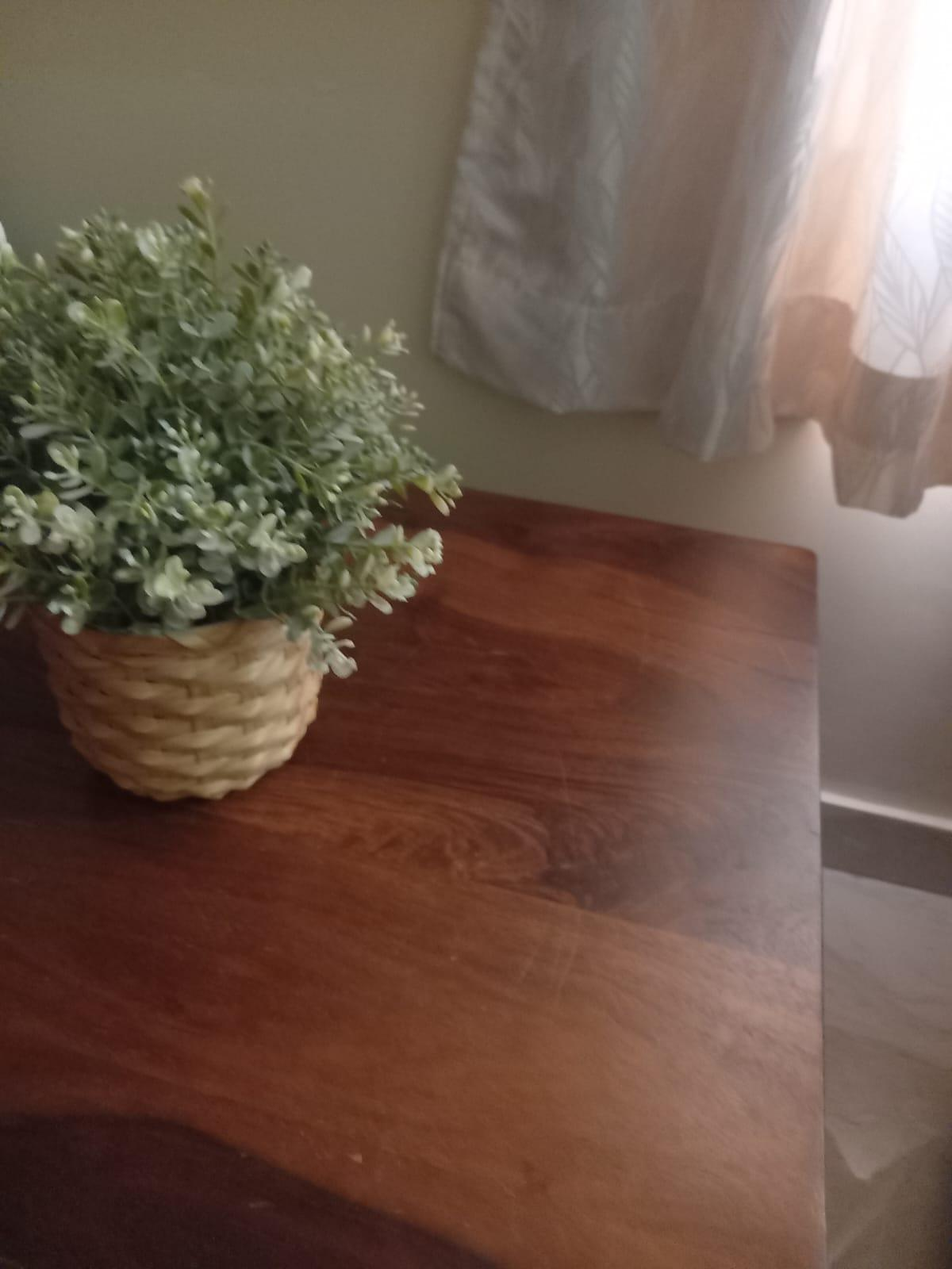vase: (5, 231, 472, 818)
